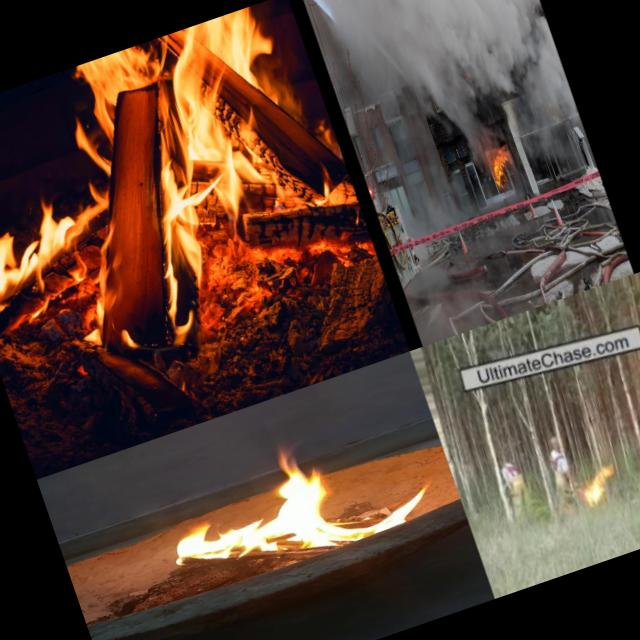fire: (0, 0, 363, 388), (136, 397, 442, 605), (573, 459, 622, 507), (480, 136, 519, 196)
smoke: (305, 0, 508, 209), (437, 0, 585, 165)
